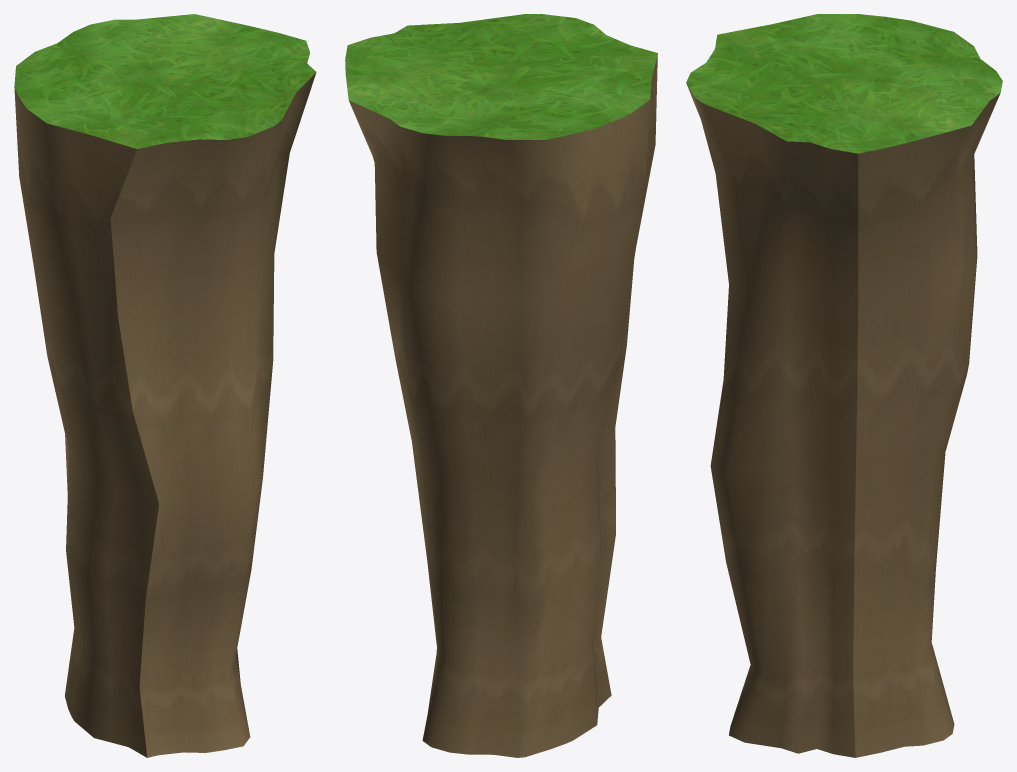
Rendered from lvl1_plat018.FBX.
The picture shows the model from 3 angles, left to right: view 1: azimuth 30°, elevation 25°; view 2: azimuth 150°, elevation 25°; view 3: azimuth 270°, elevation 25°; orthographic projection. The views are drawn at different scales.
Parts seen in each view (by area): view 1: lvl1_plat_018, lvl1_plat_018_grass; view 2: lvl1_plat_018, lvl1_plat_018_grass; view 3: lvl1_plat_018, lvl1_plat_018_grass.
Part boxes in pixels (x1,y1,x2,y2): lvl1_plat_018: (14,73,315,757); lvl1_plat_018_grass: (14,14,316,148); lvl1_plat_018: (349,53,657,757); lvl1_plat_018_grass: (345,14,657,139); lvl1_plat_018: (686,84,1000,757); lvl1_plat_018_grass: (686,14,1002,153).
Size of the model in its own units: 513 by 1107 by 492.
